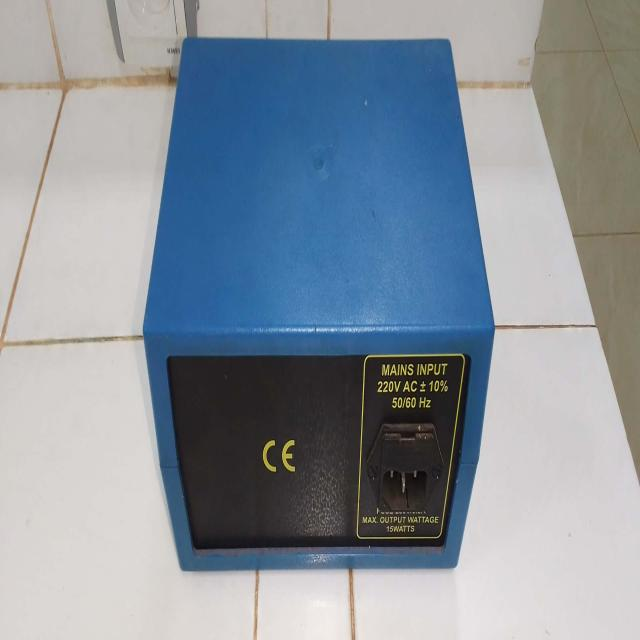Analog DC Power Supply: (138, 18, 502, 584)
